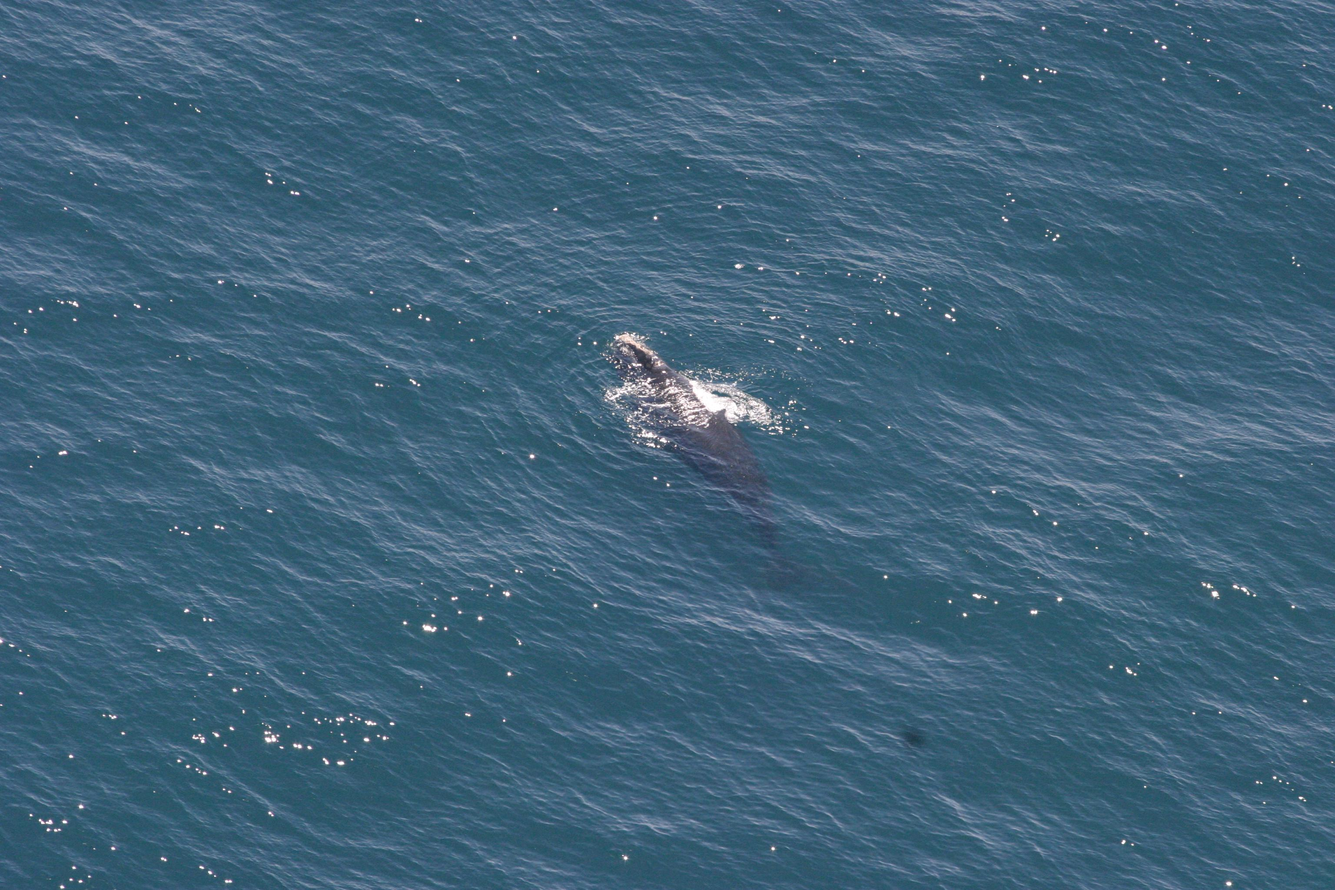whale: (597, 326, 816, 596)
